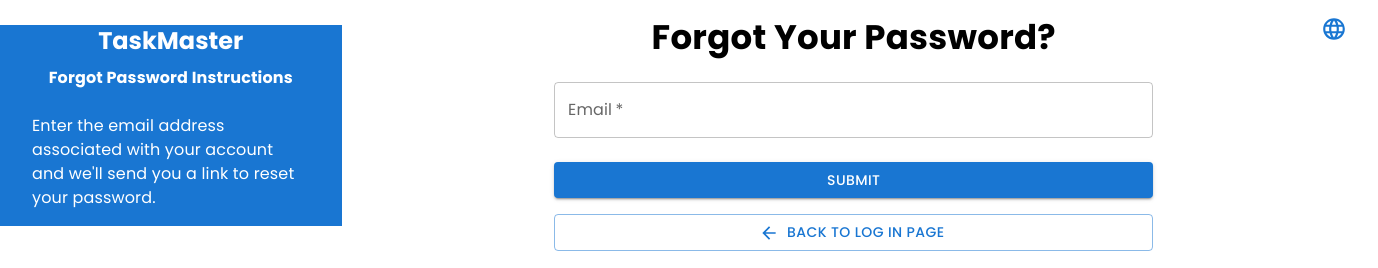
Scenario: LanguageSwitch component testing › Should be displayed on forgotPassword page
Expected: the heading "Forgot Your Password?" is shown, [652,13,1056,61]
Click the button named "LanguageBtn". click: (1334, 29)
box: [1302,10,1366,48]
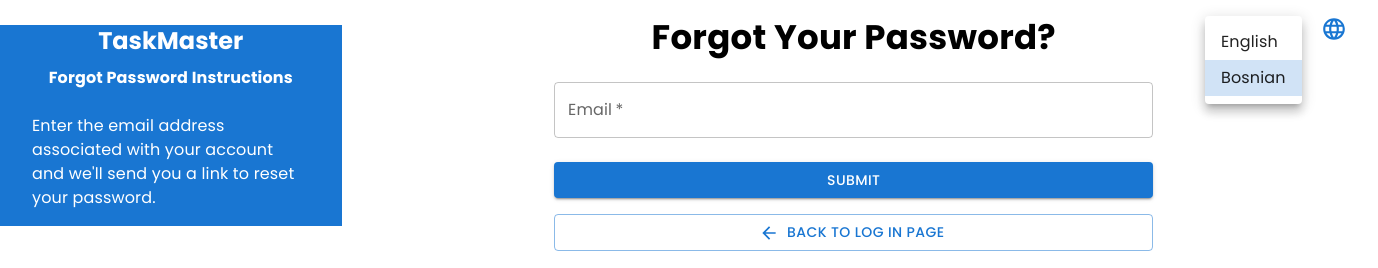
Expected: the menu item with aria-label "BosnianLngItem" is shown, [1205,60,1302,96]
